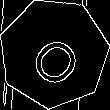O_NE: (21, 20, 87, 87)
